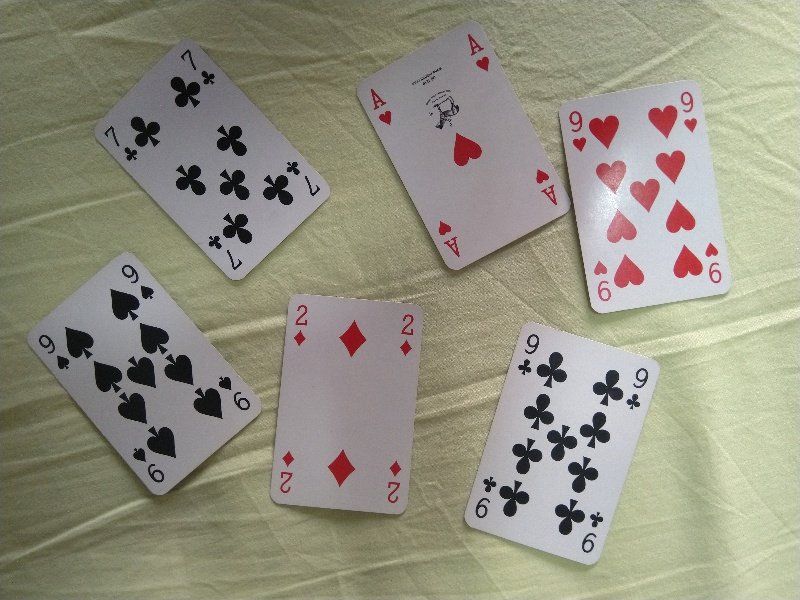2d: (288, 300, 311, 349), (384, 457, 404, 506), (397, 314, 418, 358), (275, 449, 295, 495)
7c: (207, 232, 245, 274), (102, 124, 141, 164), (284, 157, 321, 198), (180, 47, 215, 87)
9c: (578, 508, 605, 555), (625, 364, 652, 409), (472, 474, 498, 520), (516, 330, 540, 376)
9h: (565, 108, 589, 153), (702, 239, 724, 286), (678, 89, 700, 135), (594, 259, 614, 305)
9s: (130, 444, 167, 487), (36, 332, 72, 374), (120, 262, 157, 302), (217, 372, 252, 414)
Ah: (463, 29, 493, 75), (435, 218, 464, 259), (368, 87, 395, 129), (532, 168, 560, 207)
